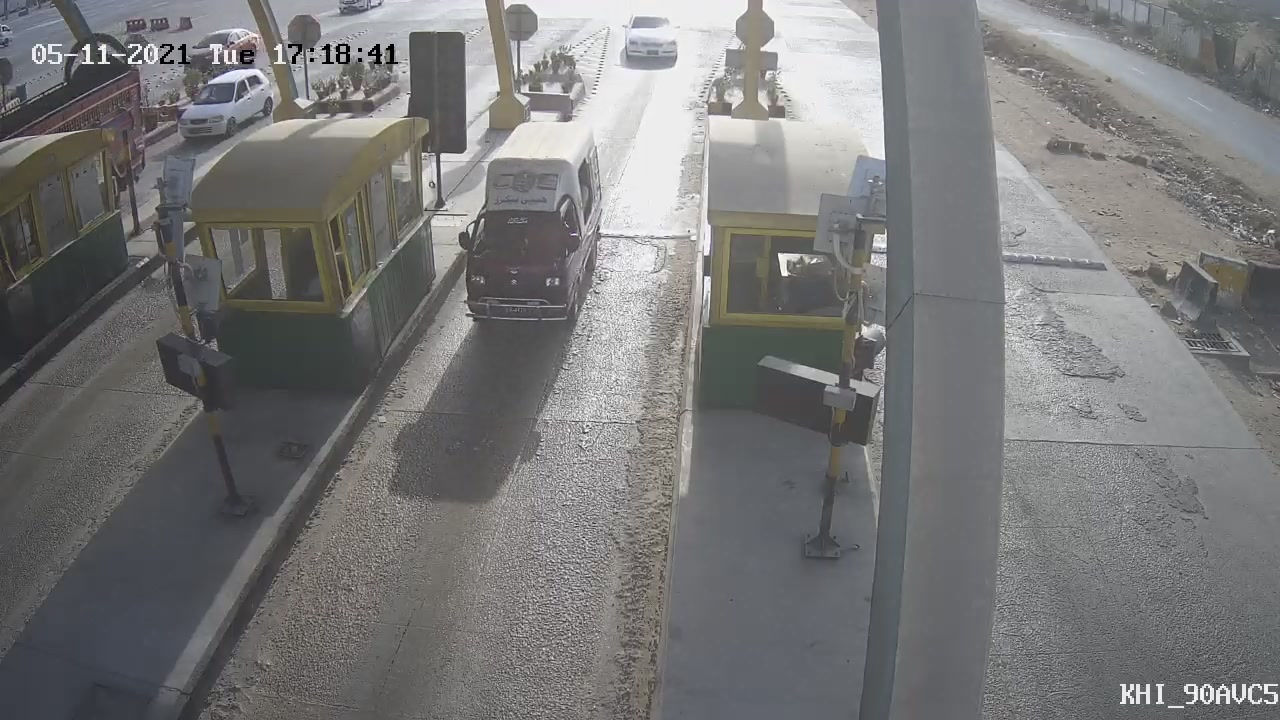F1: (437, 105, 621, 352)
